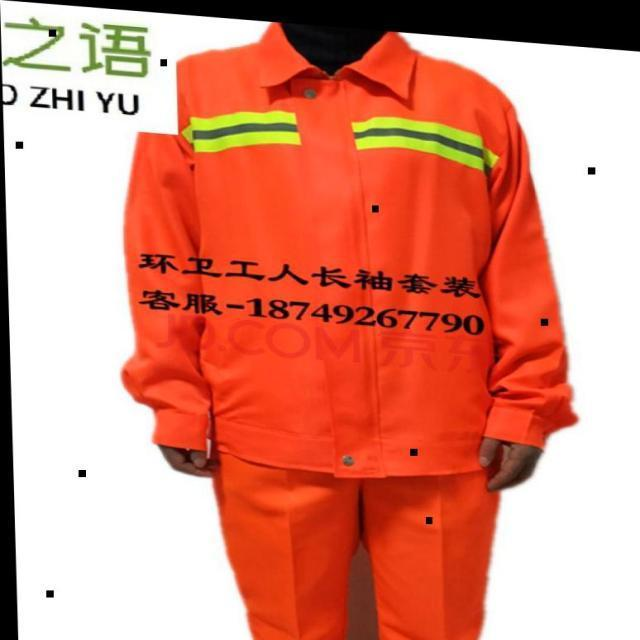safety_helmet: (142, 51, 570, 477)
